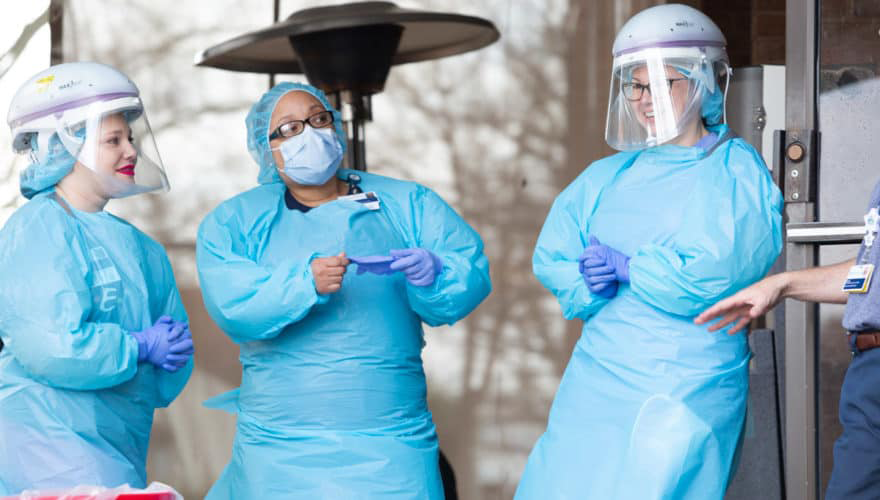Coverall: (201, 177, 466, 500), (534, 153, 775, 500), (1, 204, 190, 498)
Gloves: (129, 319, 194, 371), (581, 237, 632, 302), (388, 243, 446, 289)
with_mask: (273, 115, 345, 190)
